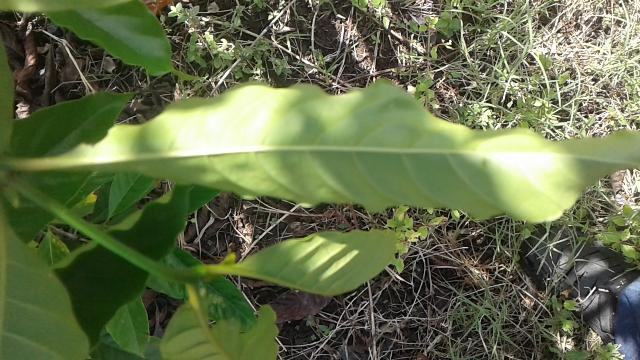healthy: (60, 70, 640, 226)
